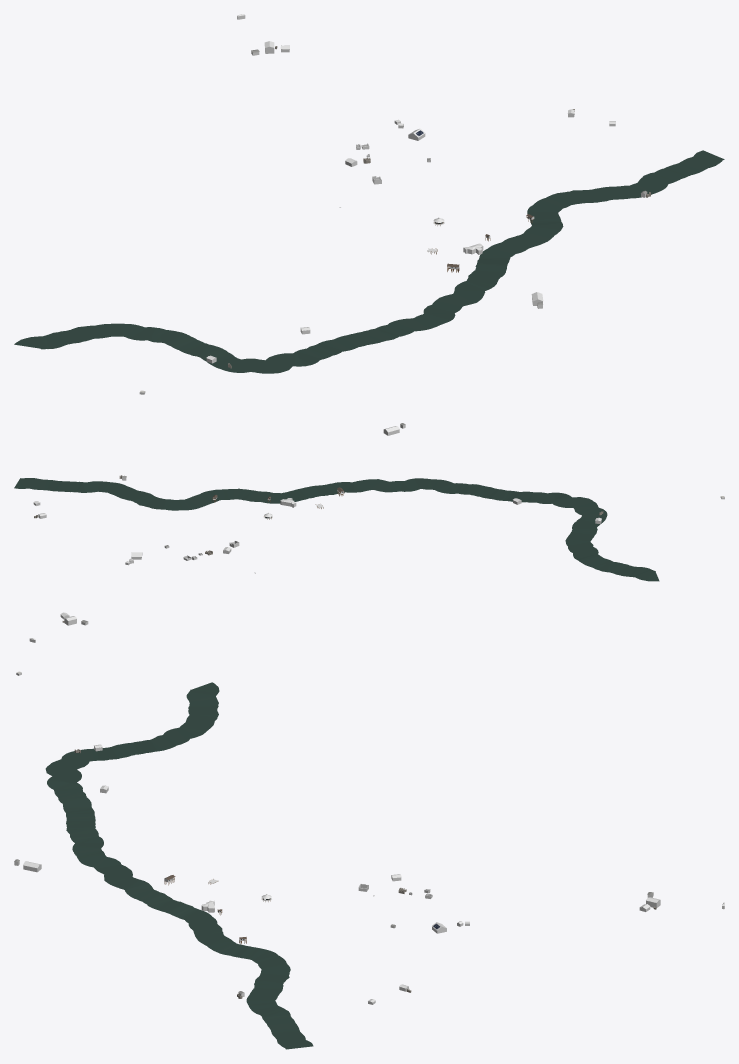
3 renders of one model, top to bottom at view 1: azimuth 30°, elevation 25°; view 2: azimuth 150°, elevation 25°; view 3: azimuth 270°, elevation 25°, orthographic. The views are drawn at different scales.
Visible parts, largest first — view 1: River Río Sever; view 2: River Río Sever; view 3: River Río Sever.
Boxes of the visible parts, box(x1,y1,x2,y2) form: River Río Sever: box(14, 150, 724, 373); River Río Sever: box(14, 478, 659, 581); River Río Sever: box(45, 682, 313, 1049).
Bounding box in the file's own units: 960 × 61.07 × 843.
